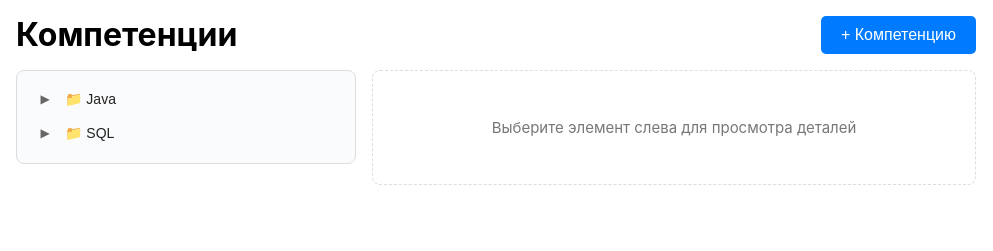
Test case: AdminCompetenciesTreePage (lock) › раскрытие компетенции загружает и показывает её секции
The width and height of the screenshot is (993, 251).
Expected: the button "📁 Java" is shown, [59, 87, 337, 111]
Click the button named "Развернуть" at (45, 99), box [35, 92, 55, 106]
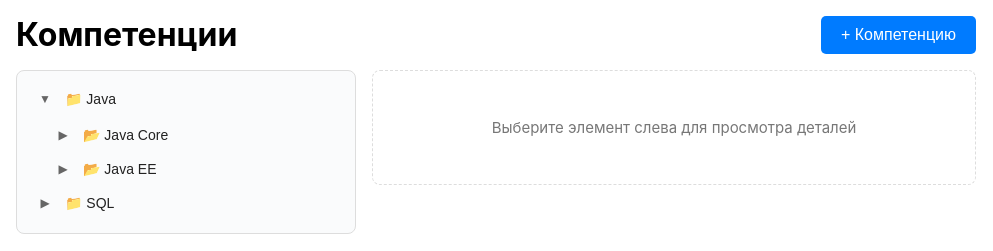
Now the button "📂 Java Core" is shown, box [77, 123, 337, 147]
Now the button "📂 Java EE" is shown, box [77, 157, 337, 181]
